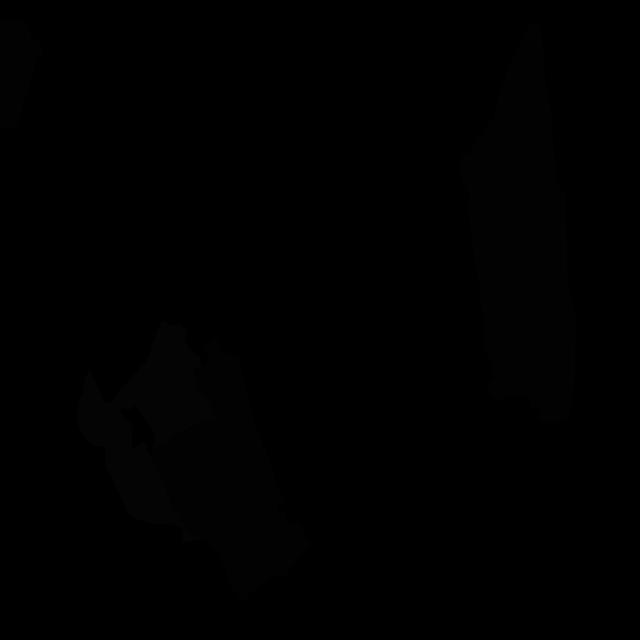cardboard: (460, 23, 576, 422), (151, 335, 312, 602), (0, 17, 43, 129)
soft_plastic: (77, 319, 215, 450), (105, 411, 203, 542)
